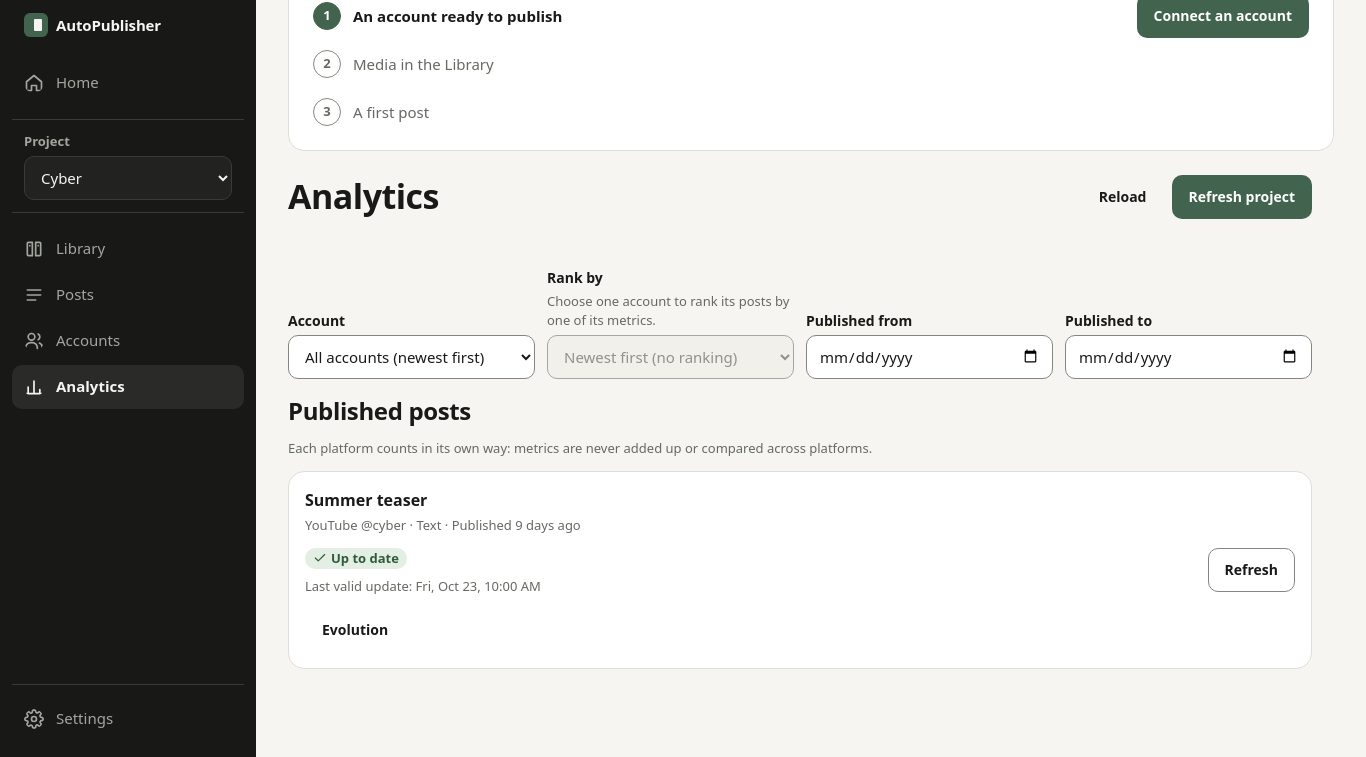
Test: Post evolution › draws exactly the real readings, in time order, with exact values
(page scrolled)
Step 1. Click the button "Evolution" → (355, 630), box [305,608,405,652]
(page scrolled)
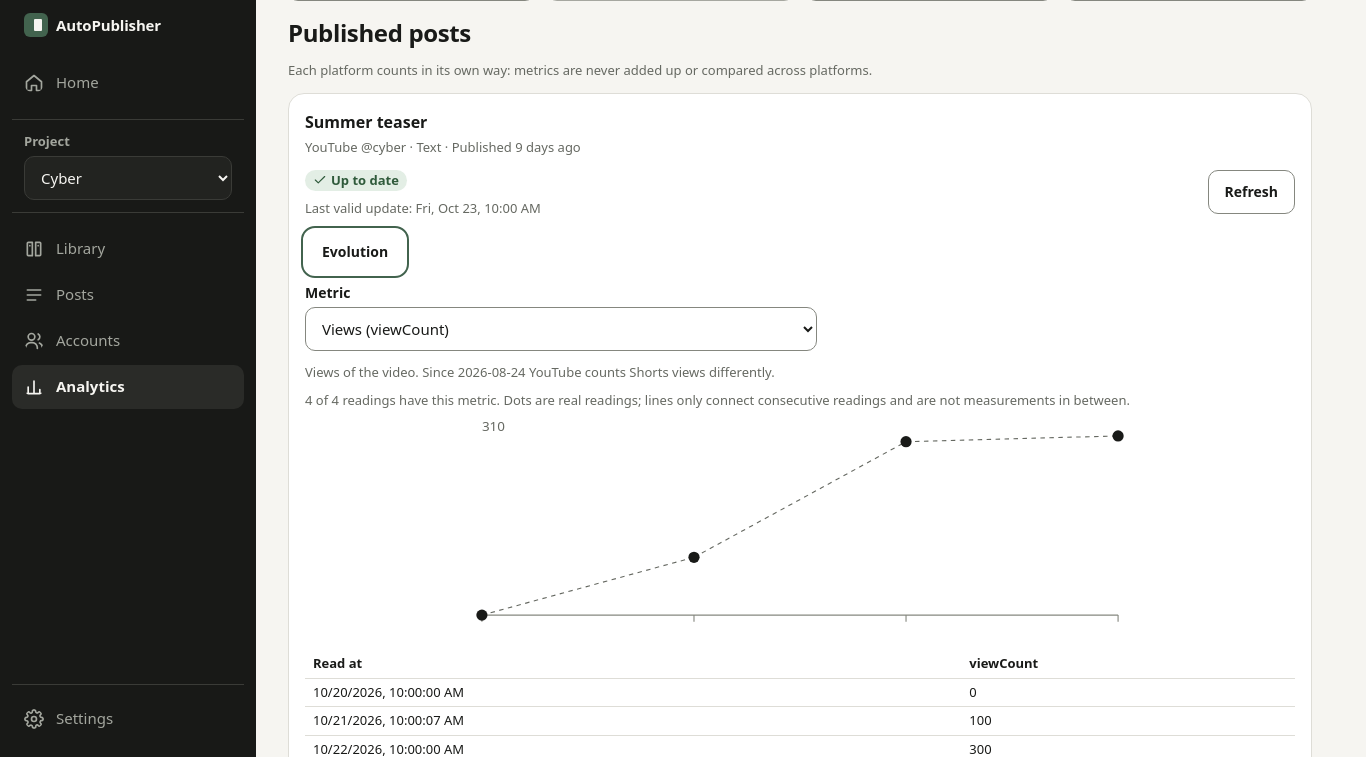
Expected: the dropdown labelled "Metric" is shown, [305,307,817,351]
Expected: the text "4 of 4 readings have" is shown, [305,391,1130,409]
Expected: the text "Since 2026-08-24" is shown, [305,363,775,381]
